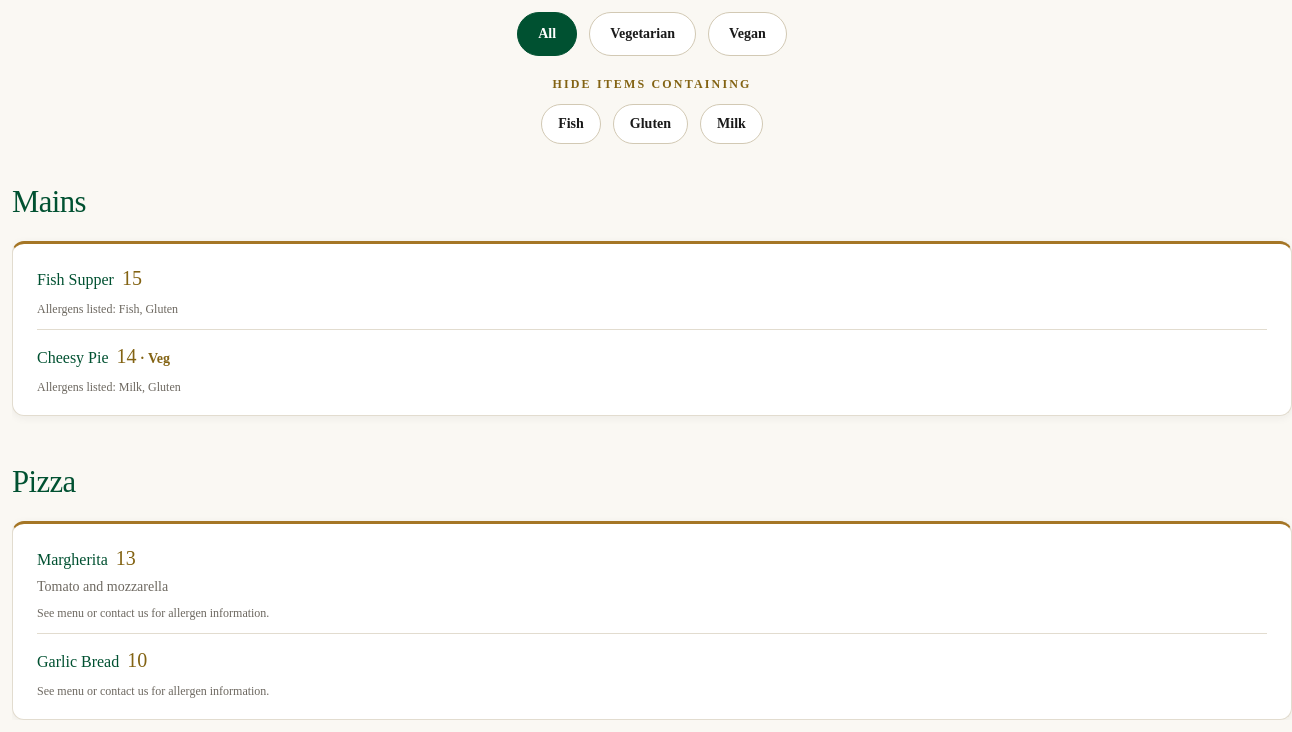
Test case: allergen filter: dishes with no allergen data › does the same for Gluten, where no dish with data passes
Click the button "Gluten" at coordinates (650, 124), box [613,104,688,144]
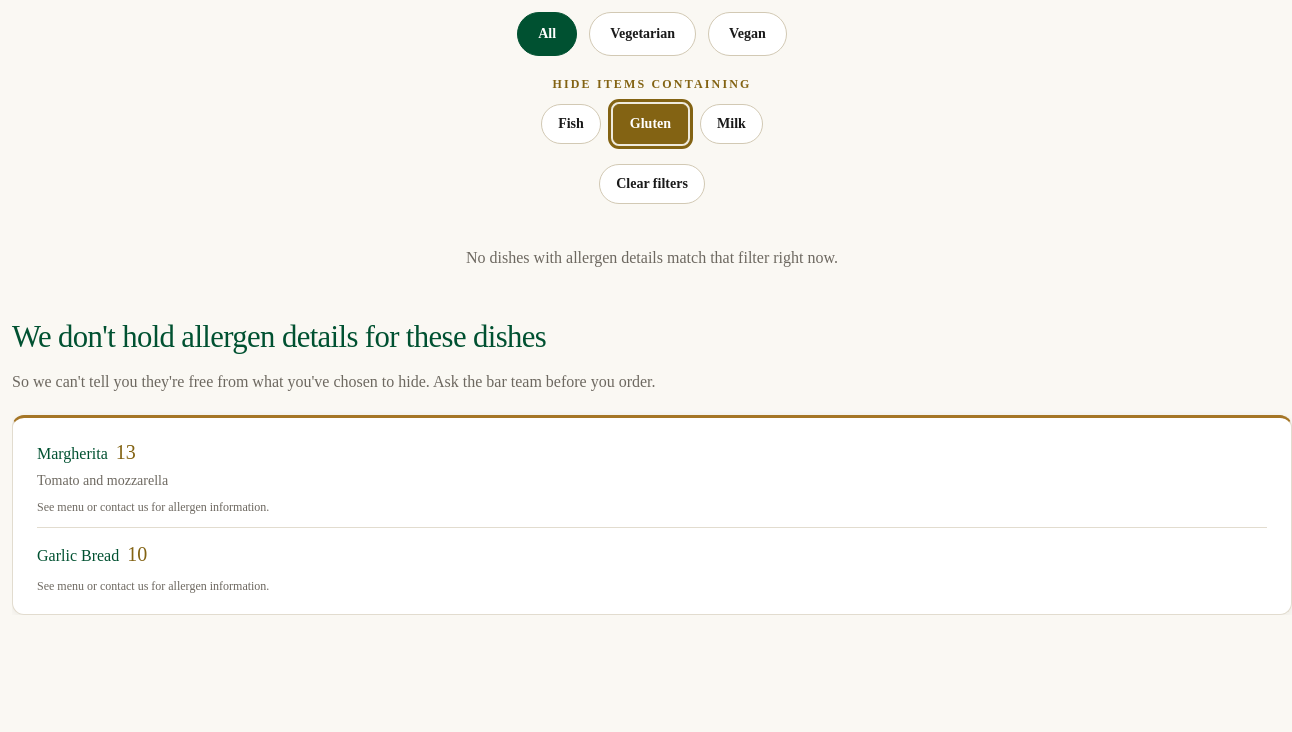
Expected: the text "Margherita" is shown, [37,445,108,462]
Expected: the element with test id "menu-filtered-list" is gone
Expected: the text with test id "menu-no-matches" reads "No dishes with allergen details match that filter right now.", [466,249,838,266]
